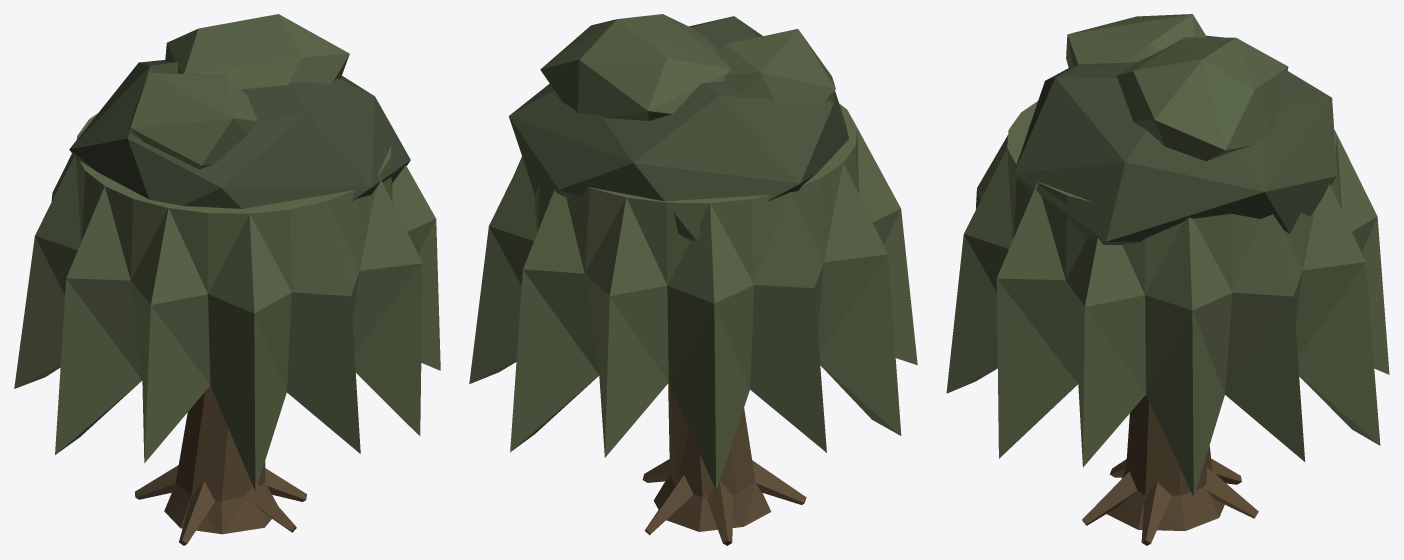
The model's file is Swamp_Willow.fbx.
3 views of the same model, side by side, from view 1: azimuth 30°, elevation 25°; view 2: azimuth 150°, elevation 25°; view 3: azimuth 270°, elevation 25° (orthographic). The views are drawn at different scales.
Parts seen in each view (by area): view 1: Fronds, Crown, Crown2, Trunk; view 2: Fronds, Crown, Crown2, Trunk; view 3: Fronds, Crown, Crown2, Trunk.
Boxes of the visible parts, x1,y1,x2,y2 form: Fronds: (14, 113, 440, 491); Crown: (69, 60, 410, 208); Crown2: (127, 14, 349, 169); Trunk: (135, 385, 306, 545); Fronds: (469, 103, 917, 490); Crown: (508, 16, 848, 240); Crown2: (540, 14, 835, 121); Trunk: (642, 383, 806, 545); Fronds: (946, 101, 1389, 496); Crown: (1014, 35, 1337, 244); Crown2: (1066, 14, 1288, 161); Trunk: (1082, 395, 1258, 545).
Bounding box in the file's own units: 9.11 × 11.05 × 9.09.
